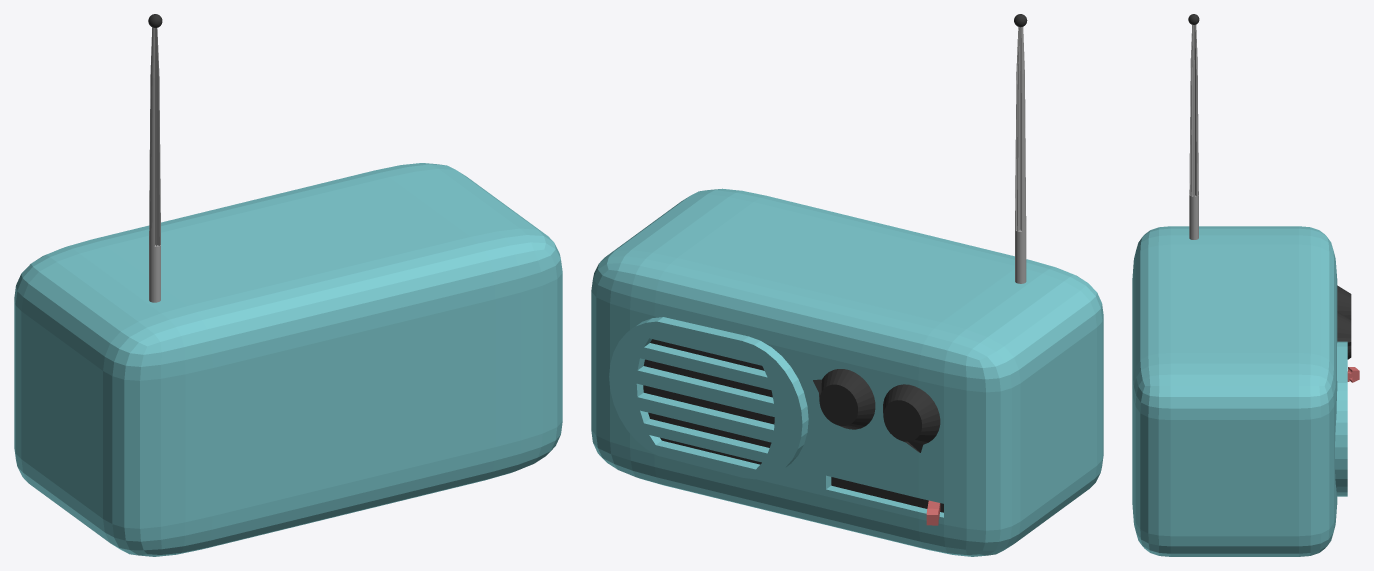
File: import2.fbx
3 renders of one model, left to right at view 1: azimuth 30°, elevation 25°; view 2: azimuth 150°, elevation 25°; view 3: azimuth 270°, elevation 25°, orthographic. The views are drawn at different scales.
Parts seen in each view (by area): view 1: RetroRadio_Cylinder.001; view 2: RetroRadio_Cylinder.001; view 3: RetroRadio_Cylinder.001.
Part boxes in pixels (bbox=[...]): RetroRadio_Cylinder.001: bbox=[14, 14, 562, 556]; RetroRadio_Cylinder.001: bbox=[591, 14, 1103, 556]; RetroRadio_Cylinder.001: bbox=[1132, 14, 1359, 556].
Bounding box in the file's own units: 400 × 441 × 222.
